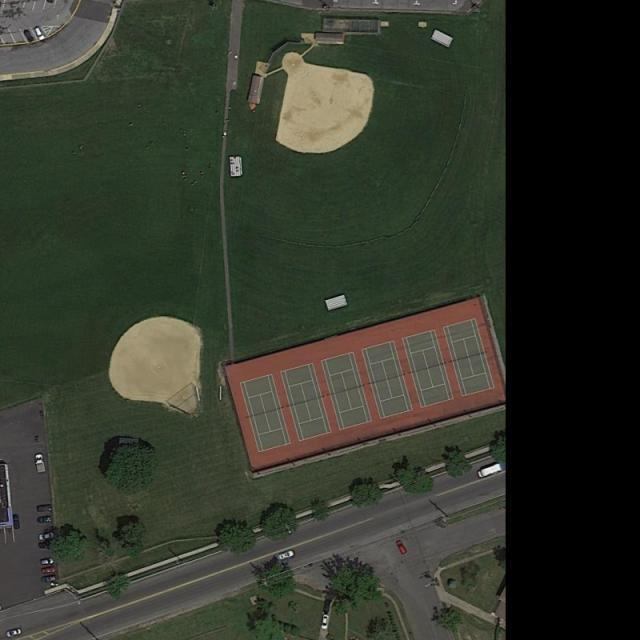vehicle: (476, 462, 502, 480), (33, 454, 46, 474), (32, 25, 46, 42), (22, 29, 36, 43), (278, 549, 294, 561), (6, 627, 22, 639), (38, 541, 56, 551), (396, 539, 407, 555), (37, 531, 54, 541), (321, 614, 330, 630), (323, 599, 332, 614), (39, 557, 54, 566), (36, 504, 52, 512), (41, 566, 55, 574), (13, 515, 20, 530), (37, 516, 52, 523), (41, 576, 56, 582), (46, 1, 54, 6)
